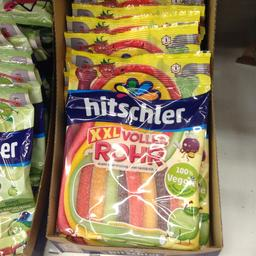candy: (60, 39, 214, 250)
